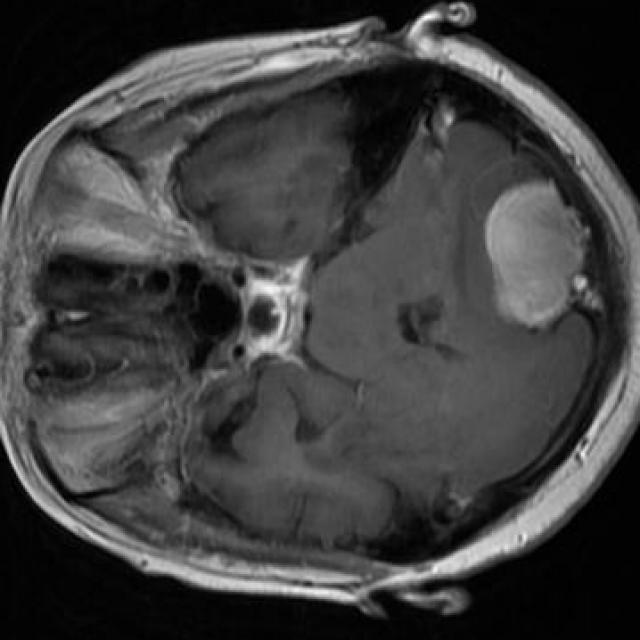meningioma: (485, 182, 603, 330)
